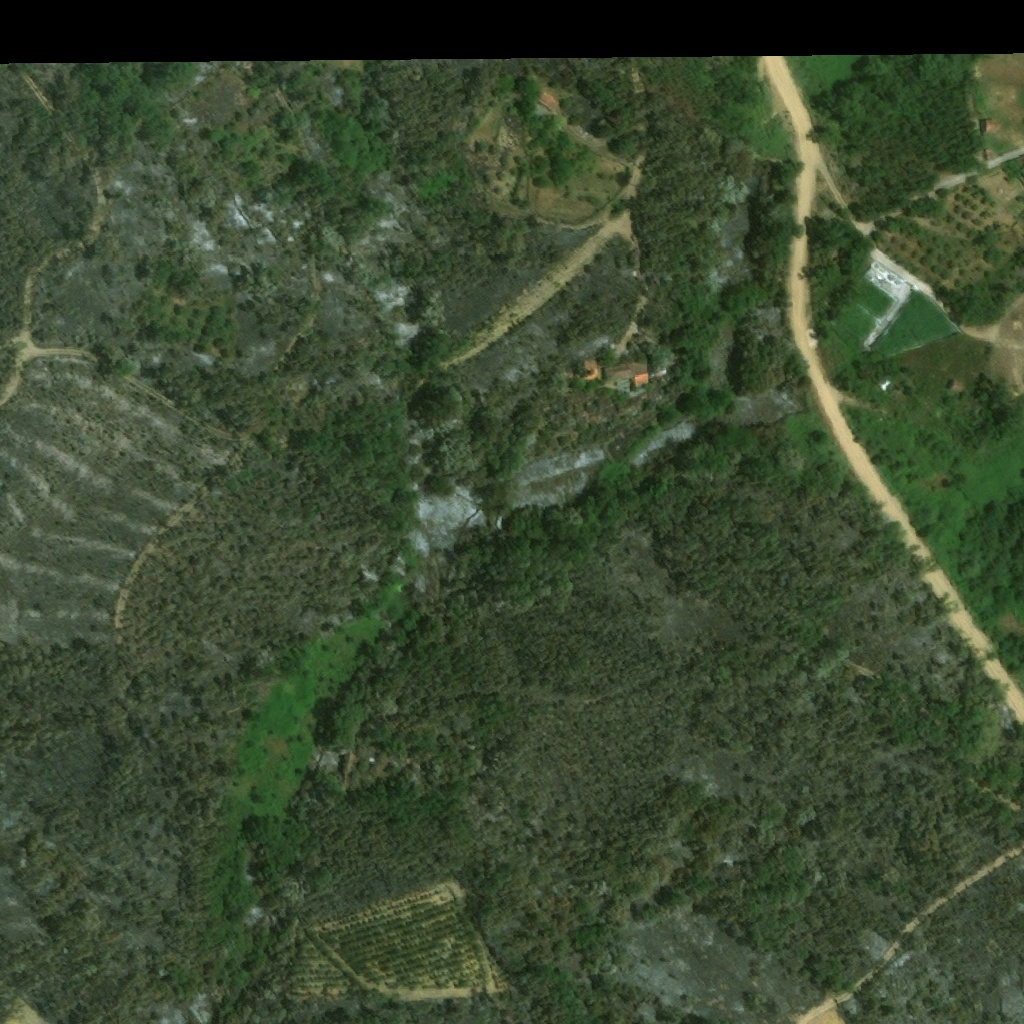0 no-damage: (604, 362, 636, 381), (537, 94, 560, 113), (582, 360, 598, 381), (947, 380, 966, 395), (983, 121, 1003, 135), (634, 373, 649, 389), (635, 360, 647, 377)
